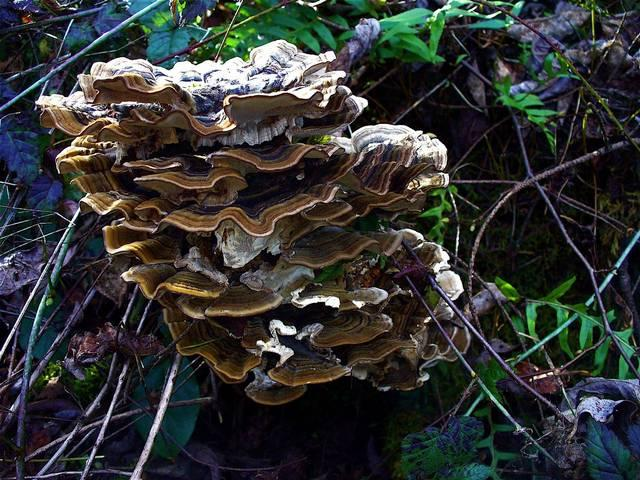Non-edible Mushroom: (35, 35, 479, 406), (330, 122, 450, 218)
